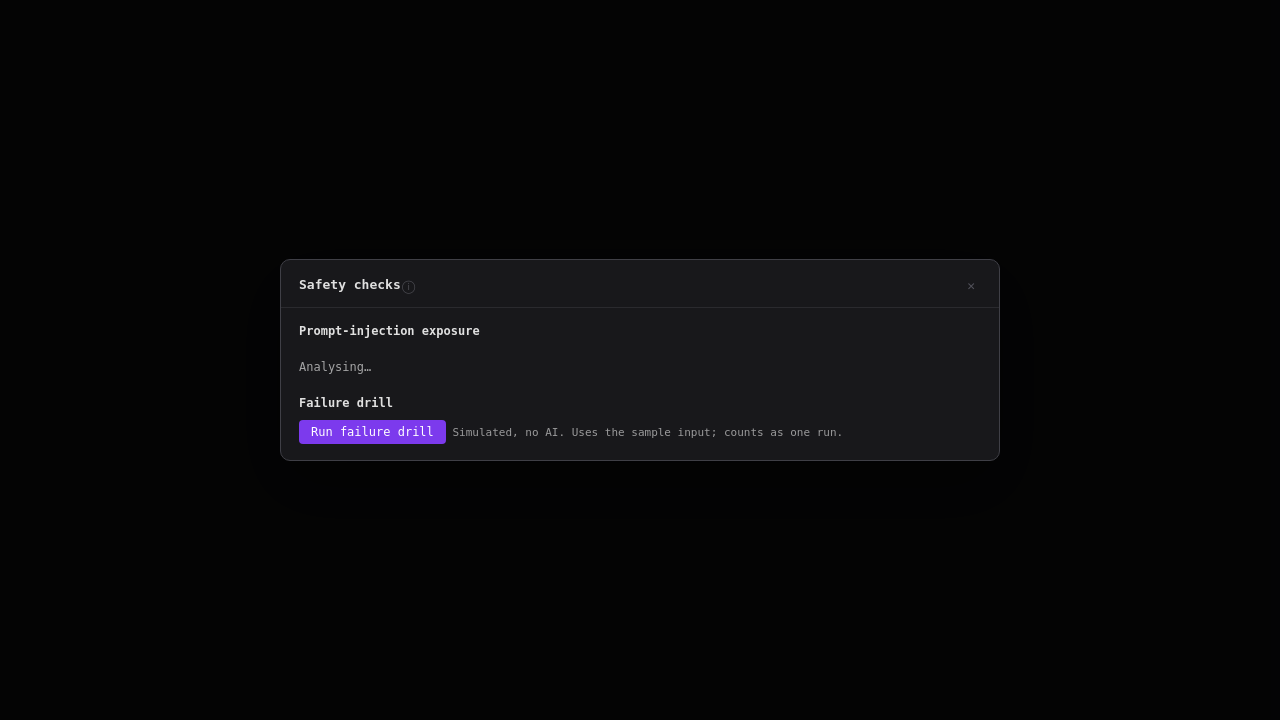
it: SafetyModal — failure drill › shows a limit error
Click the button "Run failure drill": (372, 432) top-left (299, 420), bottom-right (446, 444)
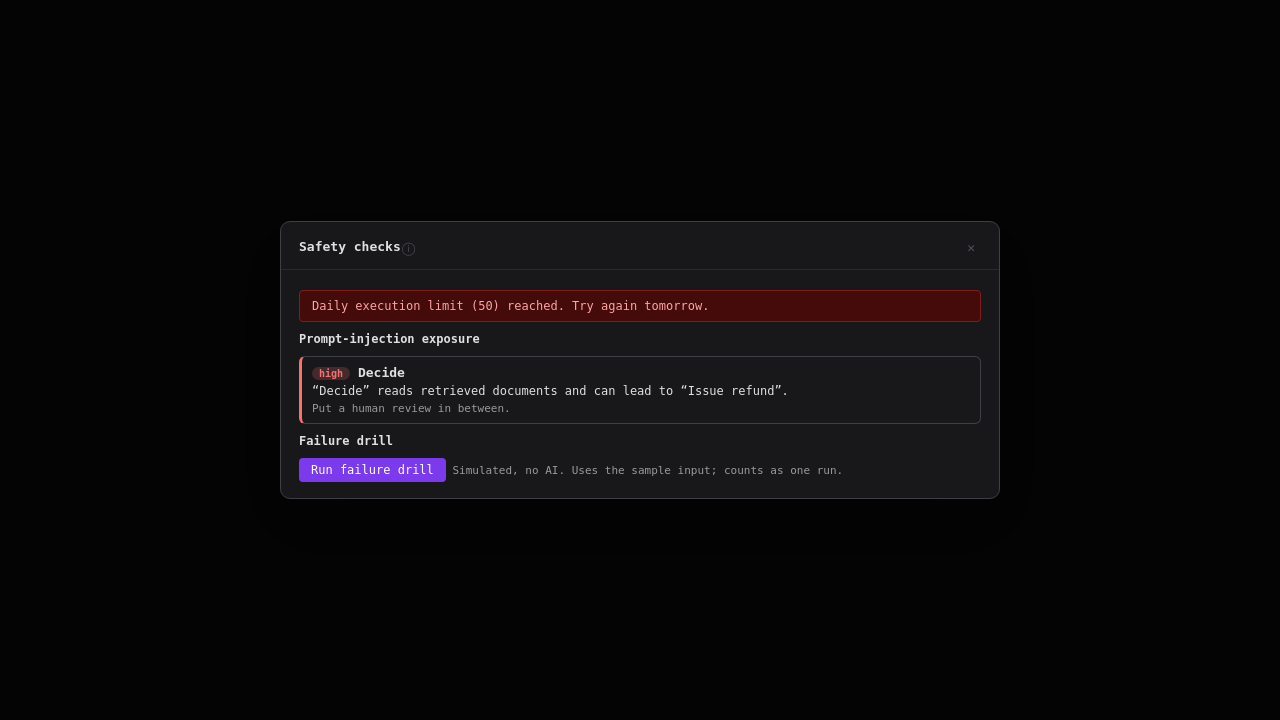
Expected: the message shows "Daily execution limit (50) reached", top-left (312, 299), bottom-right (709, 313)
